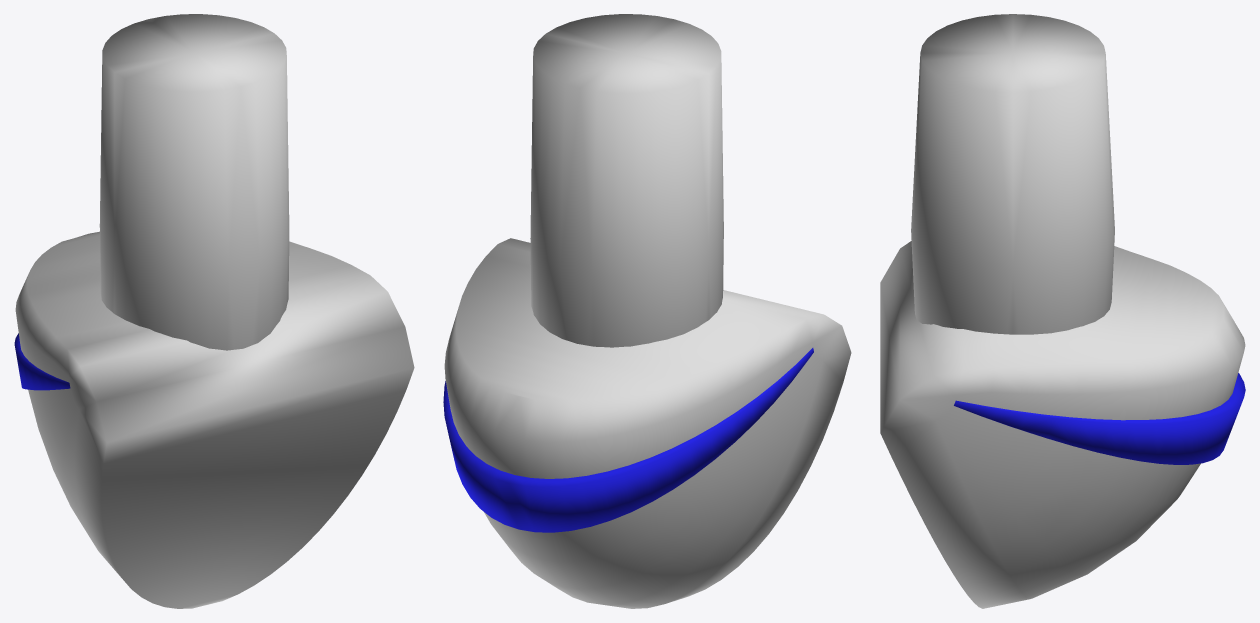
The model's file is lupperarm.obj.
3 renders of one model, left to right at view 1: azimuth 30°, elevation 25°; view 2: azimuth 150°, elevation 25°; view 3: azimuth 270°, elevation 25°, orthographic. The views are drawn at different scales.
Visible parts, largest first — view 1: this_is_here_because_of_a_bug_in_simsaprk; view 2: this_is_here_because_of_a_bug_in_simsaprk; view 3: this_is_here_because_of_a_bug_in_simsaprk.
Boxes of the visible parts, x1,y1,x2,y2 form: this_is_here_because_of_a_bug_in_simsaprk: (14,14,414,608); this_is_here_because_of_a_bug_in_simsaprk: (443,14,851,608); this_is_here_because_of_a_bug_in_simsaprk: (880,14,1245,608).
Bounding box in the file's own units: 0.0828 × 0.1391 × 0.0846.
